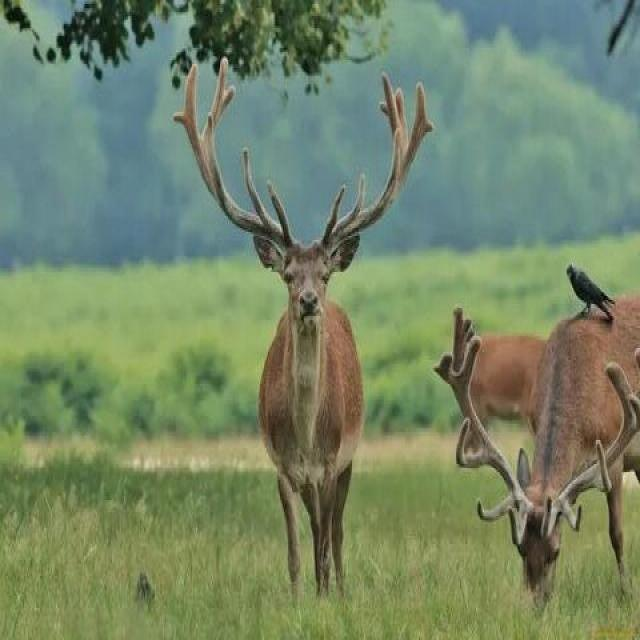deer: (182, 94, 420, 554), (427, 187, 640, 538)
